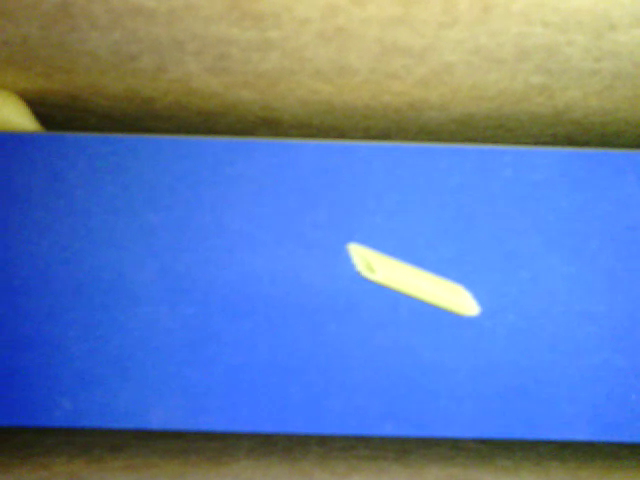penne: (348, 242, 482, 319)
